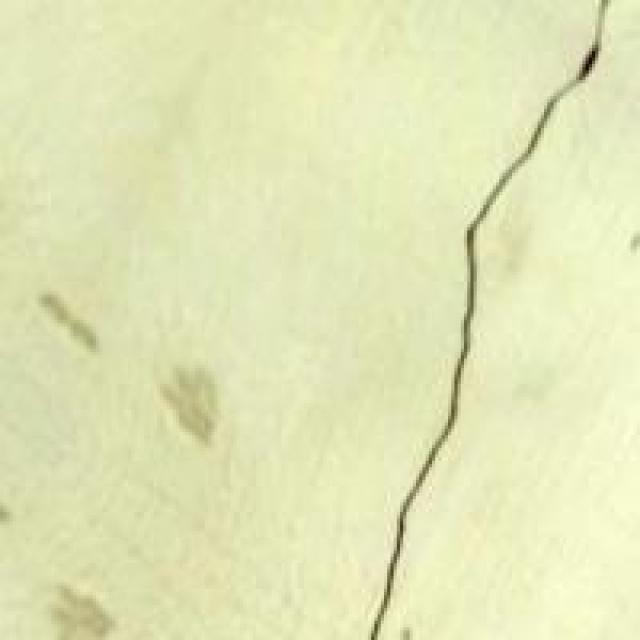Crack: (342, 0, 636, 637)
